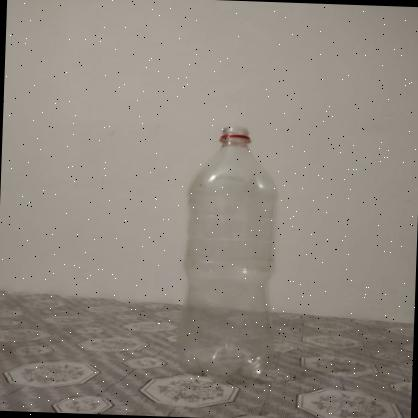bottle: (178, 123, 278, 382)
